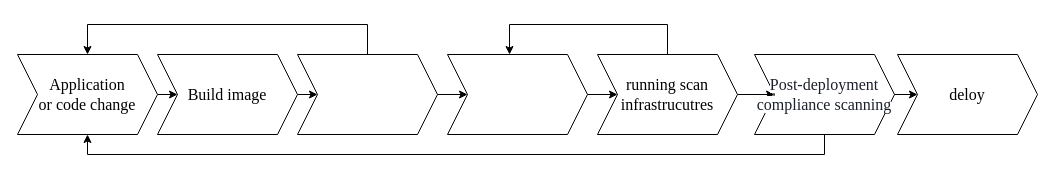
Some shapes in this 1055 by 180 pixel diagram are drawn without their labels. Each missing label, with the centre of its shape:
"scaning image or AMI" belongs at (x=367, y=94).
"update cloud infrastrucutre" belongs at (x=517, y=94).
